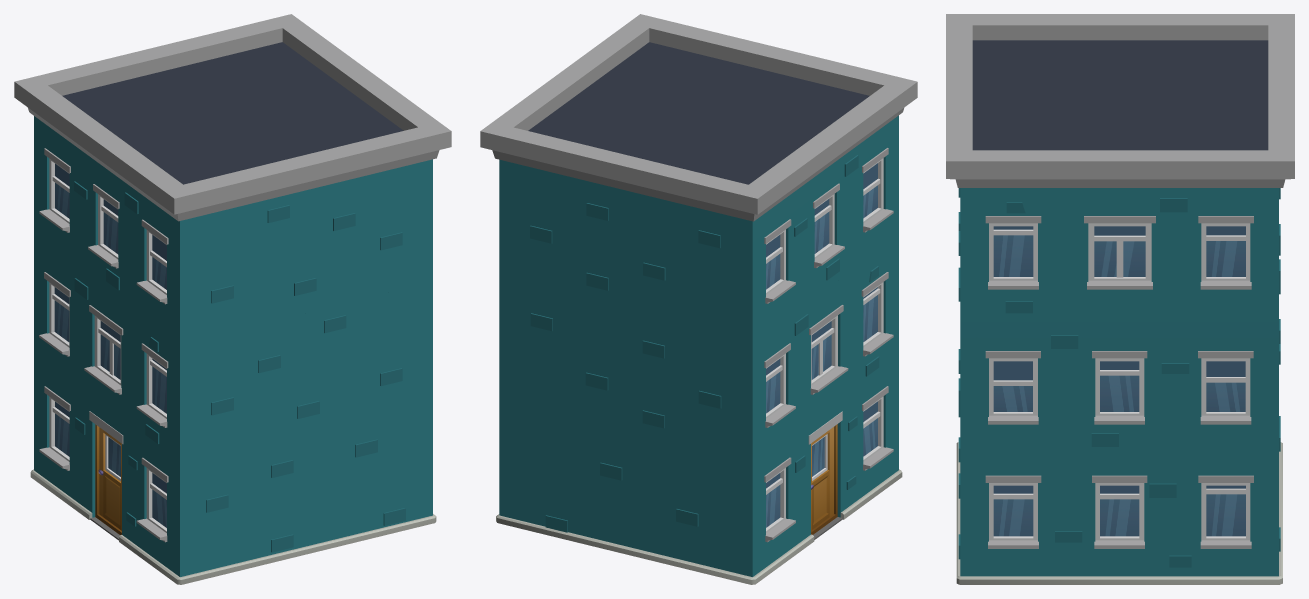
The model's file is Building_2_6_I.fbx.
3 renders of one model, left to right at view 1: azimuth 30°, elevation 25°; view 2: azimuth 150°, elevation 25°; view 3: azimuth 270°, elevation 25°, orthographic. The views are drawn at different scales.
Parts seen in each view (by area): view 1: Building_2_6_I; view 2: Building_2_6_I; view 3: Building_2_6_I.
Boxes of the visible parts, left/top/right/bottom form: Building_2_6_I: left=14, top=14, right=451, bottom=584; Building_2_6_I: left=480, top=14, right=917, bottom=584; Building_2_6_I: left=946, top=14, right=1294, bottom=584.
Bounding box in the file's own units: 620 × 840 × 620.
